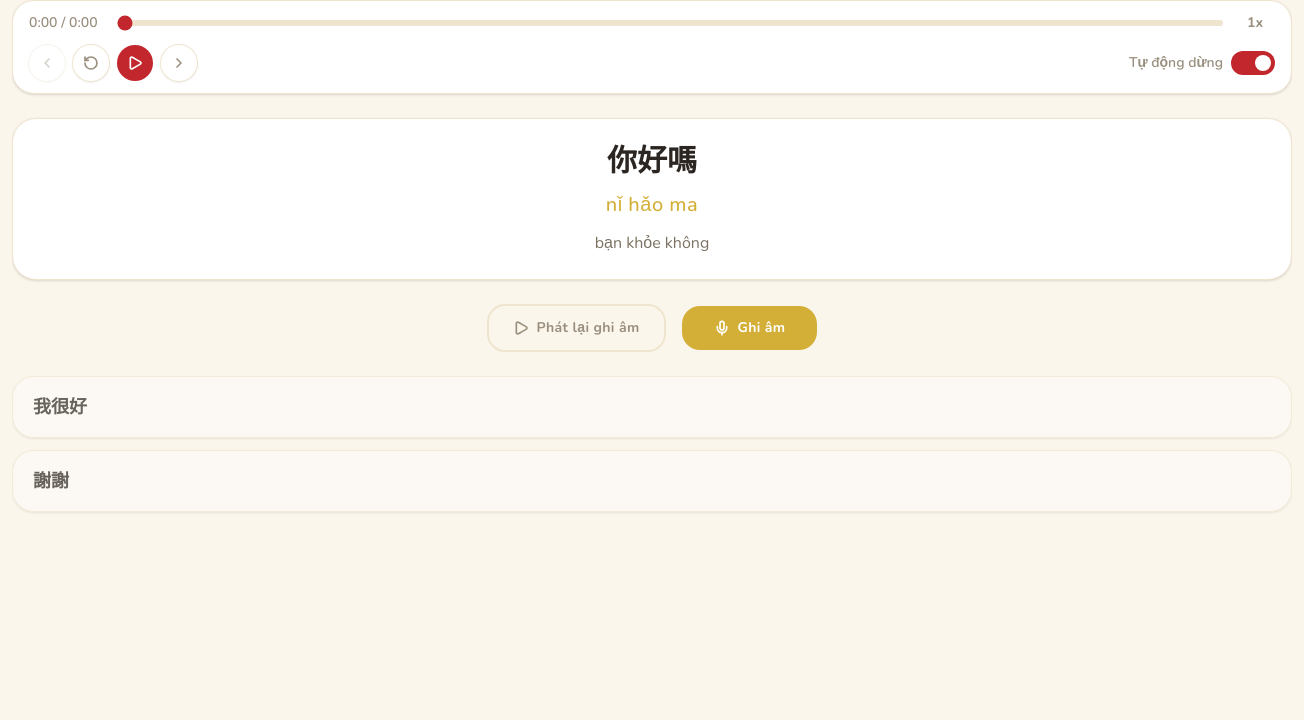
Test: ShadowingScreen › shows a Đang xử lý (processing) state on the record button between stopping and the graded result
This screenshot has width=1304, height=720.
Click the button "Ghi âm": x=749, y=328 [682, 306, 817, 350]
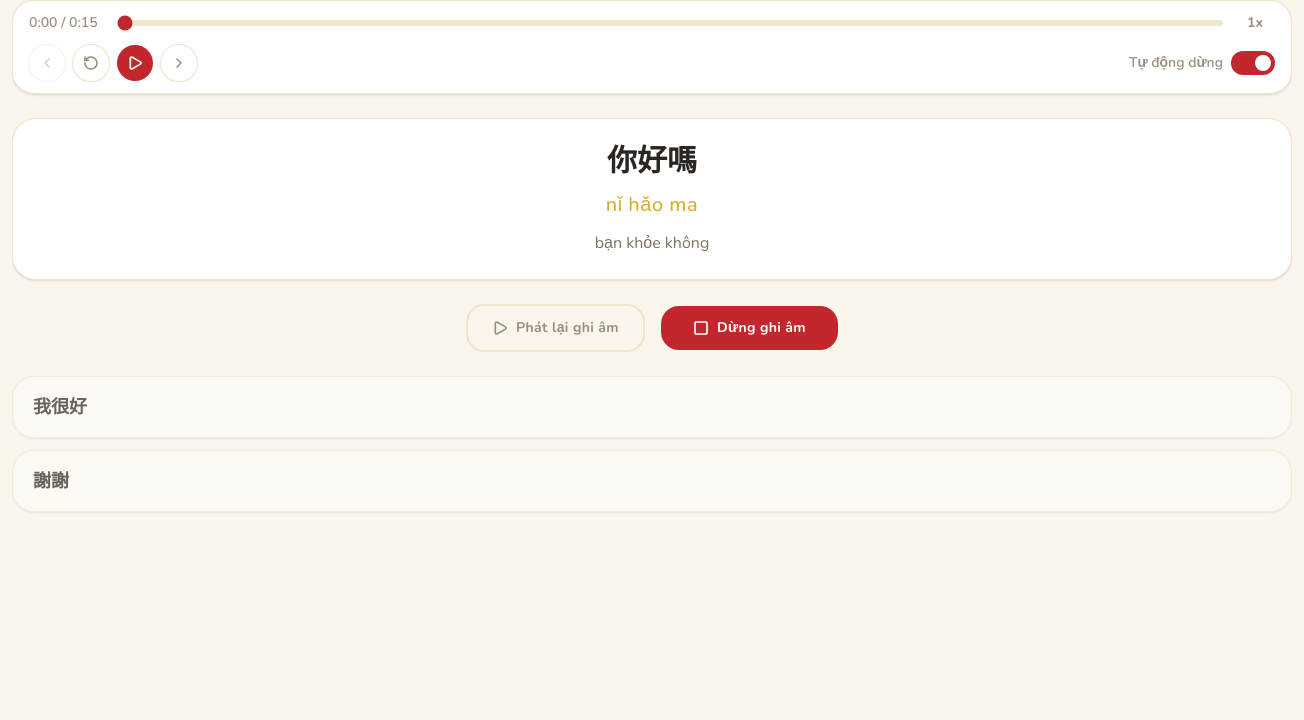
Click the button "Dừng ghi âm": x=750, y=328 [661, 306, 838, 350]
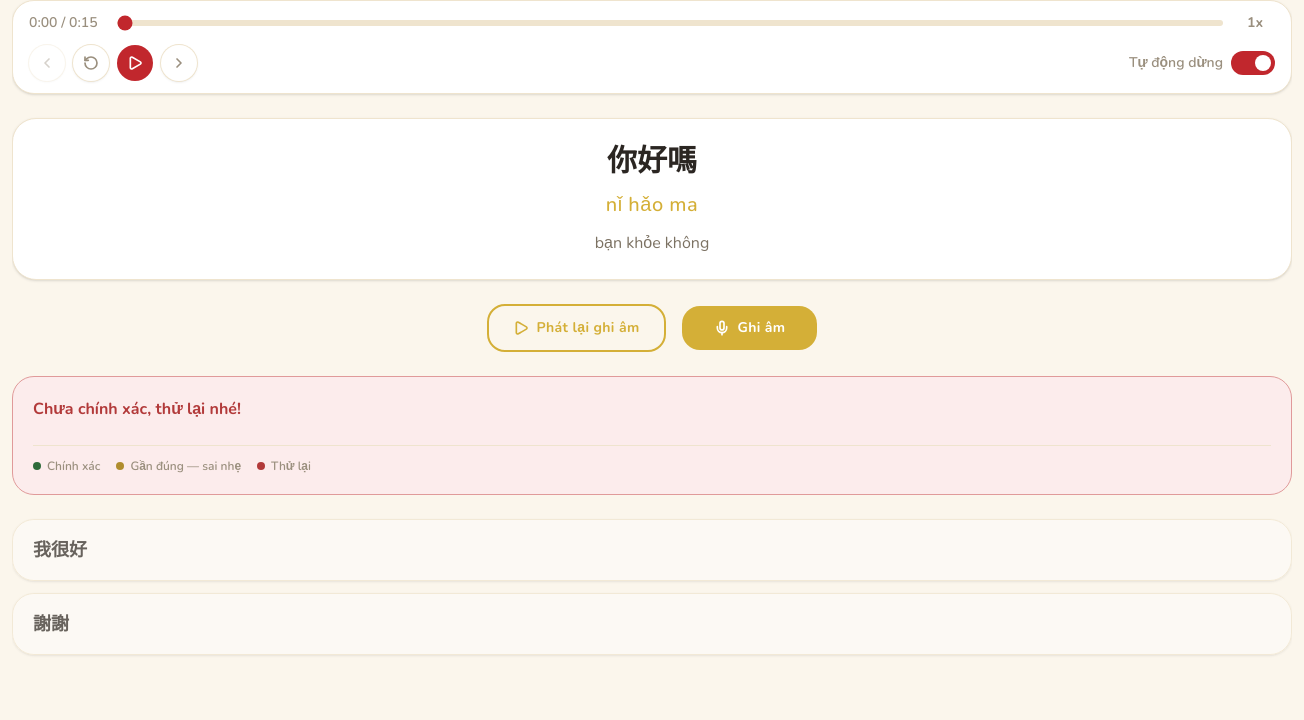
Check: the button "Ghi âm" is shown, box [682, 306, 817, 350]
